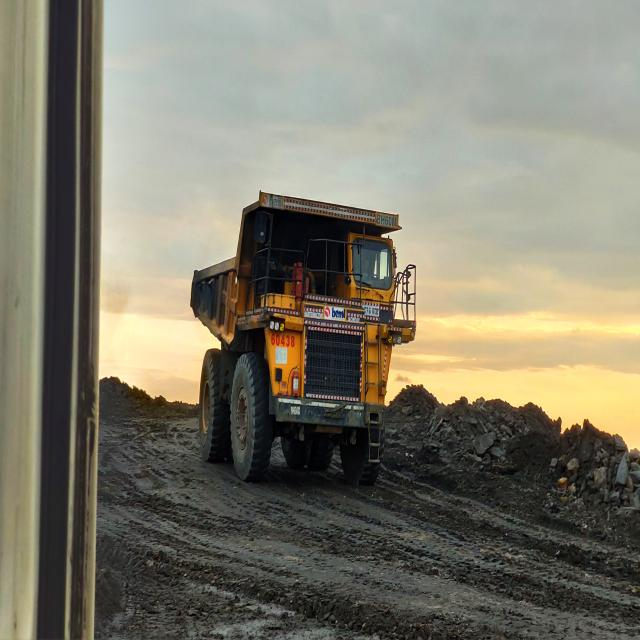dump_truck: (190, 191, 416, 484)
